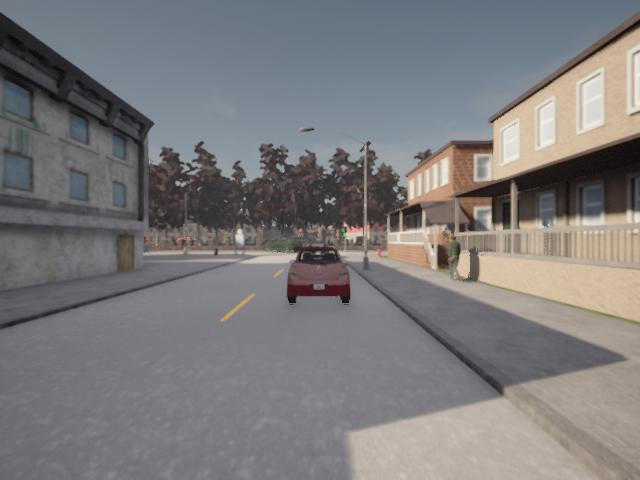9: (285, 246, 349, 304)
vehicle: (446, 232, 461, 280)
